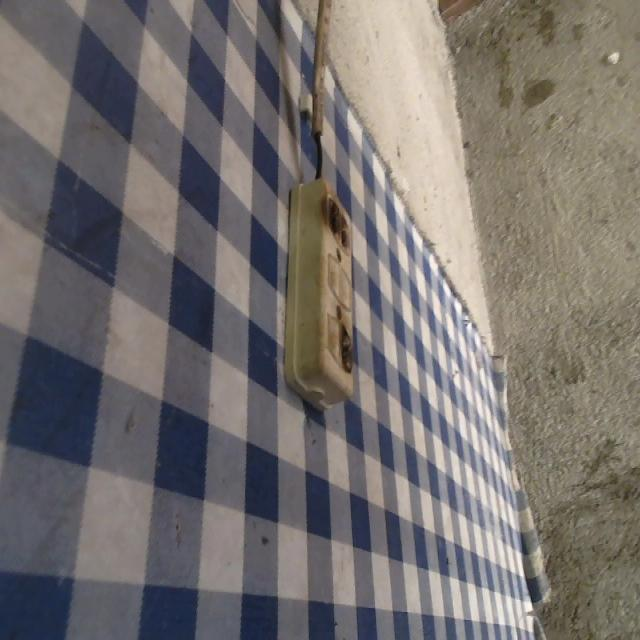-: (318, 189, 353, 255), (337, 321, 354, 376)
